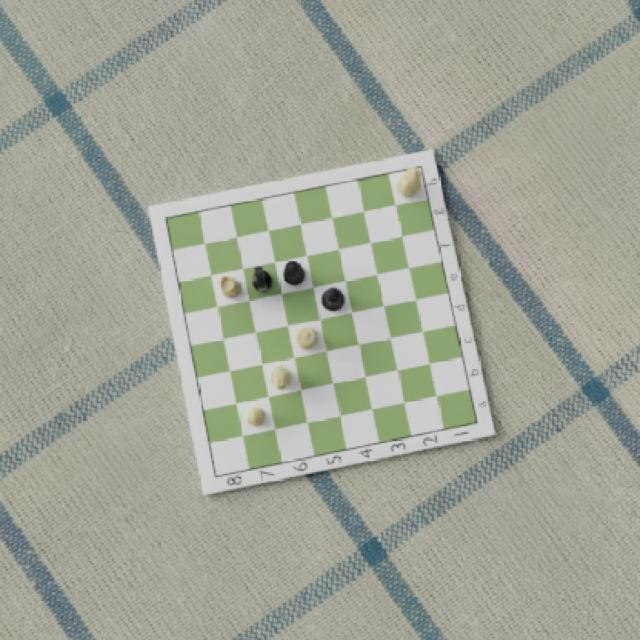black-king: (282, 258, 306, 286)
black-knight: (250, 263, 274, 293)
black-queen: (322, 285, 345, 314)
white-king: (397, 164, 422, 200)
white-knight: (271, 365, 291, 395)
white-pawn: (246, 406, 266, 429)
white-queen: (297, 326, 319, 354)
white-rook: (218, 272, 241, 302)
